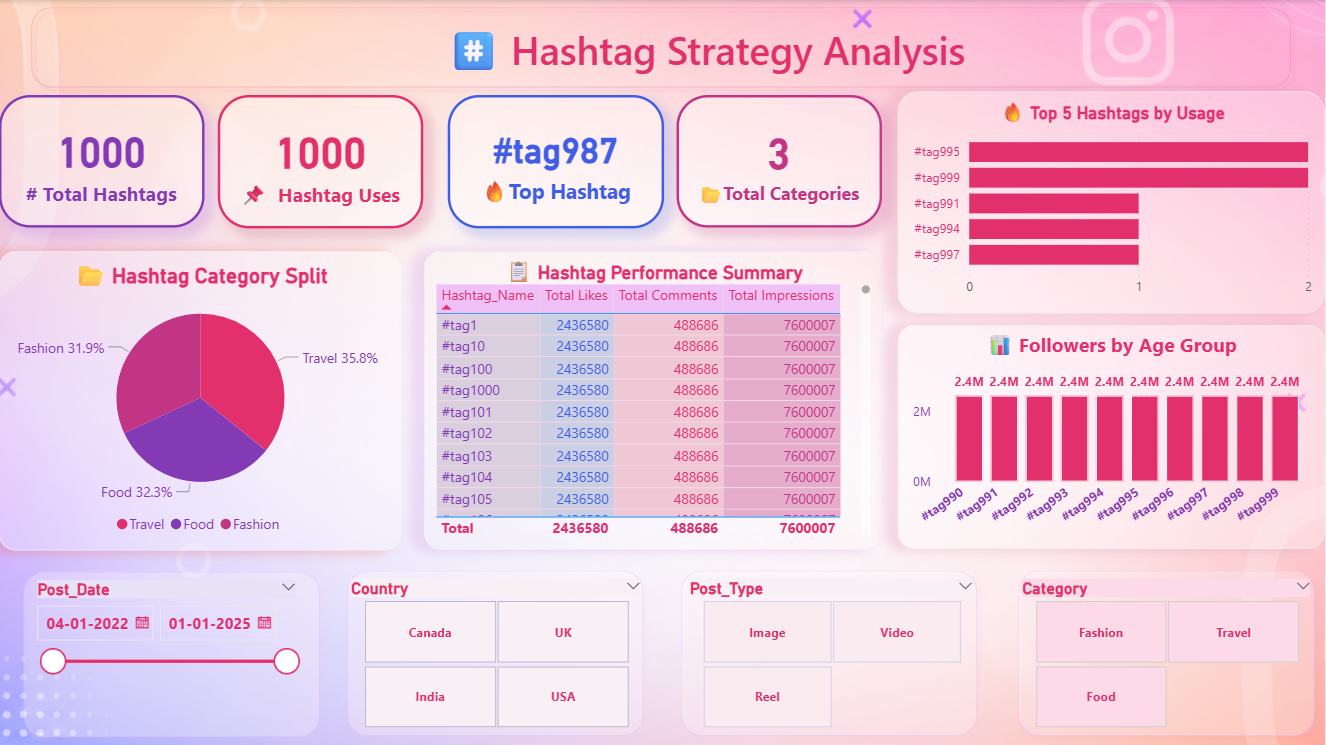

This screenshot's page, from the dashboard's own definition file:
{"tool":"powerbi","page":{"name":"Hashtag Analysis ","canvas":[1280,720],"ordinal":4},"visuals":[{"type":"card","fields":{"Values":["Hashtags.Top Hashtag"]},"box":[432.9,91.4,208.6,128.6],"z":0},{"type":"card","fields":{"Values":["Post_Hashtags.Total Hashtag Uses"]},"box":[211.4,91.4,198.6,128.6],"z":1000},{"type":"card","fields":{"Values":["Hashtags.Total Categories"]},"box":[654,92,198,128],"z":2000},{"type":"clusteredColumnChart","title":"📊 Followers by Age Group","fields":{"Y":["Likes.Total Likes"],"Category":["Hashtags.Hashtag_Name"]},"box":[868,314,412,216],"z":4000},{"type":"clusteredBarChart","title":"🔥 Top 5 Hashtags by Usage","fields":{"Category":["Hashtags.Hashtag_Name"],"Y":["Post_Hashtags.Total Hashtag Uses"]},"box":[868,88,412,214],"z":5000},{"type":"group","id":"g1","title":"Group 1","box":[15,541.2,1265,178.8],"z":6000},{"type":"shape","box":[24.3,0,1230,91.4],"z":7000},{"type":"textbox","box":[151.2,0,1063.8,116.2],"z":8000},{"type":"slicer","fields":{"Values":["Posts.Post_Date"]},"box":[23.8,555,275,165],"z":9000},{"type":"shape","box":[15,542,304.1,177.6],"z":10000,"group":"g1"},{"type":"slicer","fields":{"Values":["Users.Country"]},"box":[327.5,553.8,305,155],"z":10000},{"type":"shape","box":[327.3,541.2,304.1,177.6],"z":11000,"group":"g1"},{"type":"slicer","fields":{"Values":["Posts.Post_Type"]},"box":[653.8,553.8,298.8,155],"z":11000},{"type":"shape","box":[649.1,541.2,304.1,177.6],"z":12000,"group":"g1"},{"type":"slicer","fields":{"Values":["Hashtags.Category"]},"box":[975,553.8,303.8,155],"z":12000},{"type":"tableEx","title":"📋 Hashtag Performance Summary","fields":{"Values":["Hashtags.Hashtag_Name","Likes.Total Likes","Comments.Total Comments","Engagement.Total Impressions"]},"box":[410,242,442,288],"z":13000},{"type":"shape","box":[975.2,541.2,304.1,177.6],"z":13000,"group":"g1"},{"type":"card","fields":{"Values":["Hashtags.Total Hashtags"]},"box":[0,92,198,128],"z":14000},{"type":"pieChart","title":"📂 Hashtag Category Split","fields":{"Category":["Hashtags.Category"],"Y":["Hashtags.Total Hashtags"]},"box":[0,242.9,388.6,288.6],"z":15000}]}

Visuals, with their boxes in screenshot pixels (x1, y1, x2, y2), scaled from the page's 1280x720 canvas onto the 1326x745 screenshot:
card - Hashtags.Top Hashtag: <box>448,95,665,228</box>
card - Post_Hashtags.Total Hashtag Uses: <box>219,95,425,228</box>
card - Hashtags.Total Categories: <box>678,95,883,228</box>
"📊 Followers by Age Group" clusteredColumnChart: <box>899,325,1325,548</box>
"🔥 Top 5 Hashtags by Usage" clusteredBarChart: <box>899,91,1325,312</box>
"Group 1" group: <box>16,560,1325,744</box>
shape: <box>25,0,1299,95</box>
textbox: <box>157,0,1259,120</box>
slicer - Posts.Post_Date: <box>25,574,310,744</box>
shape: <box>16,561,331,744</box>
slicer - Users.Country: <box>339,573,655,733</box>
shape: <box>339,560,654,744</box>
slicer - Posts.Post_Type: <box>677,573,987,733</box>
shape: <box>672,560,987,744</box>
slicer - Hashtags.Category: <box>1010,573,1325,733</box>
"📋 Hashtag Performance Summary" tableEx: <box>425,250,883,548</box>
shape: <box>1010,560,1325,744</box>
card - Hashtags.Total Hashtags: <box>0,95,205,228</box>
"📂 Hashtag Category Split" pieChart: <box>0,251,403,550</box>
